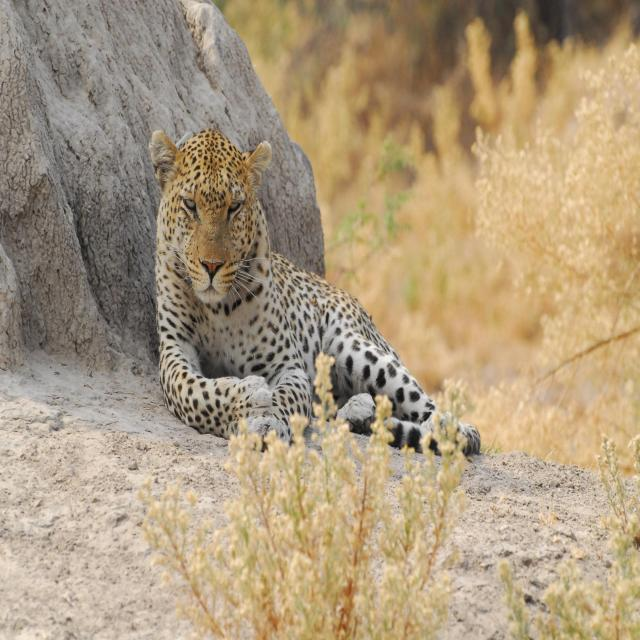Leopard: (150, 112, 495, 464)
